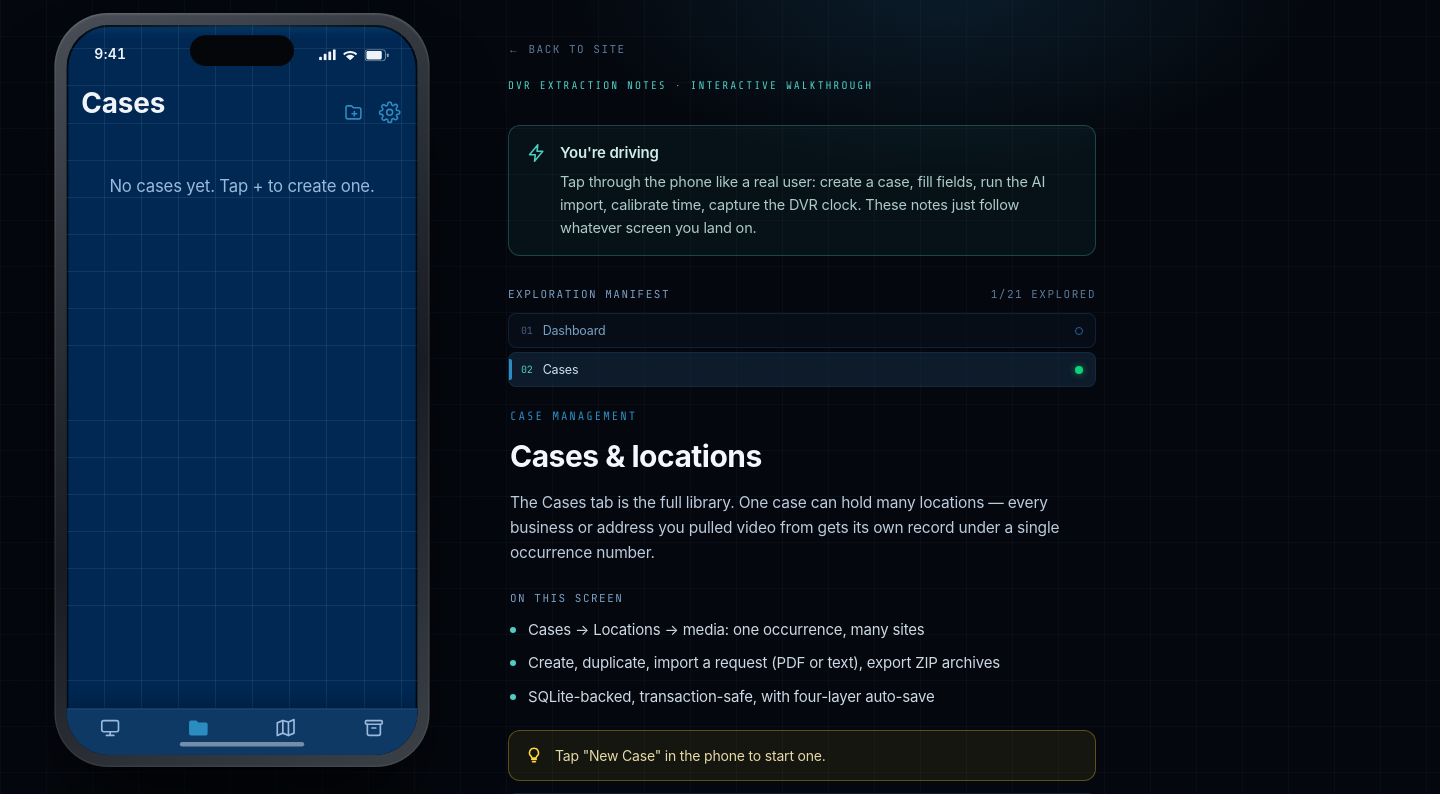
Test: the bridge seeds settings.darkMode from the live scheme › the master row previews the LIVE scheme, not the default
Click the button with test id "header-settings-button": [390, 112] box [377,99,403,125]
(page scrolled)
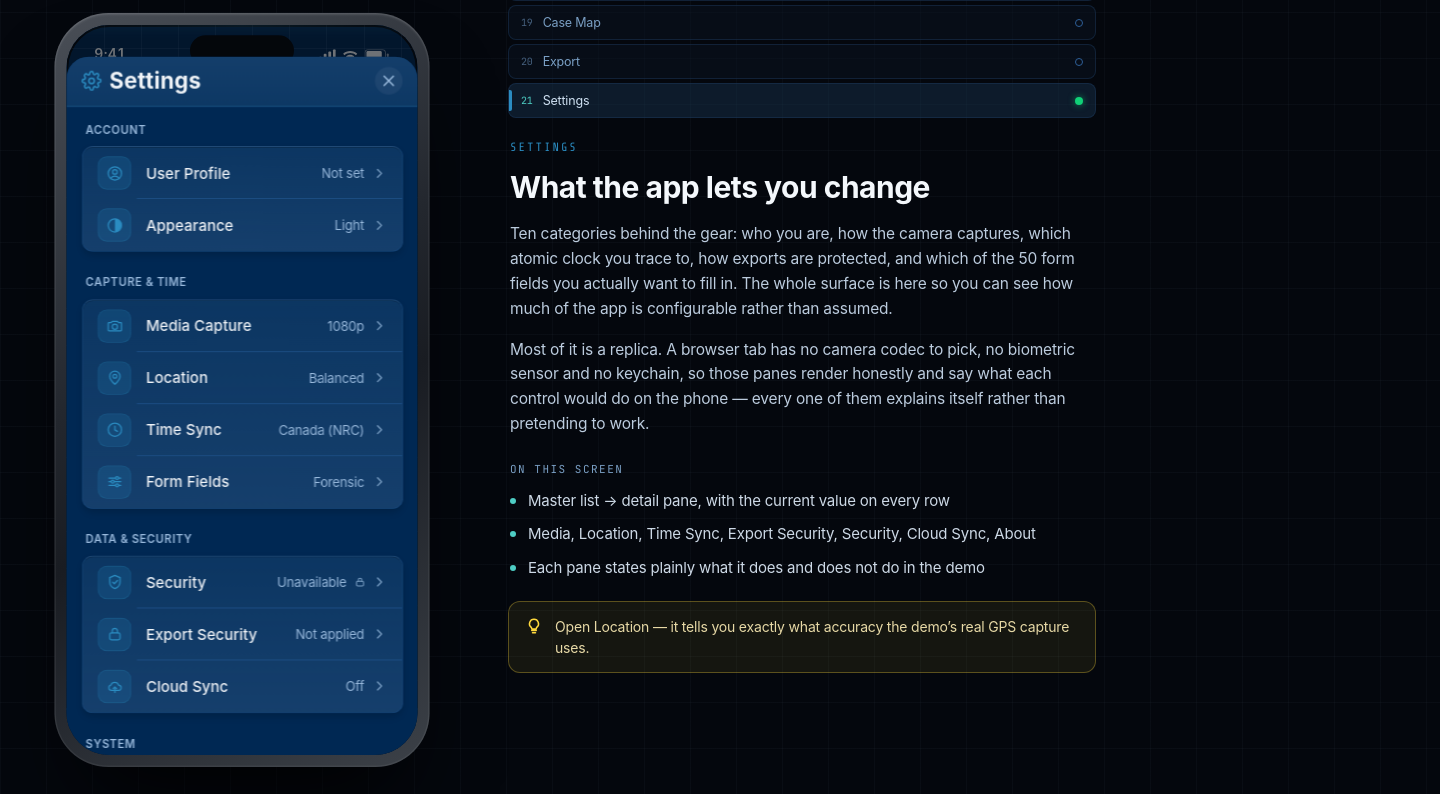
Expected: the text with test id "settings-preview-appearance" reads "Light", [334,217,364,233]
